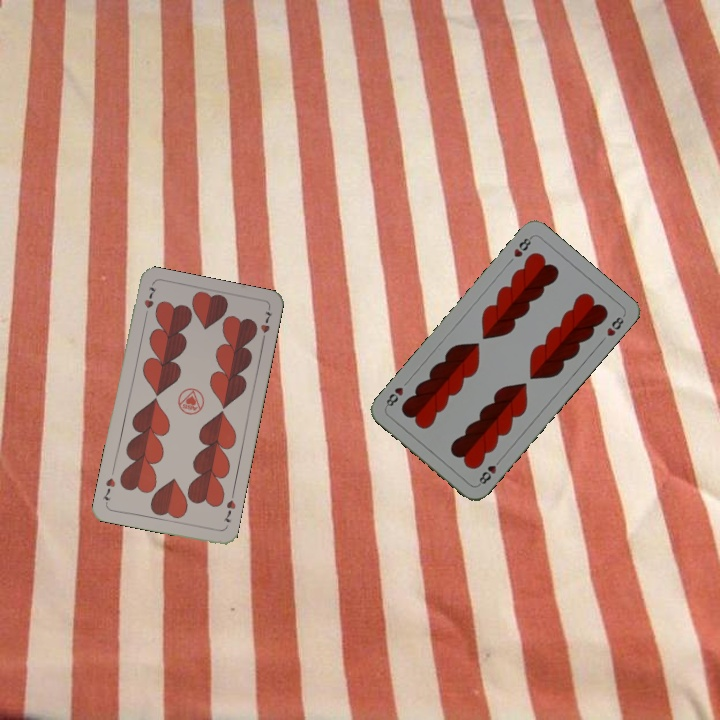H7: (140, 281, 159, 321), (220, 489, 238, 525)
H8: (474, 454, 504, 488), (509, 232, 535, 260)
